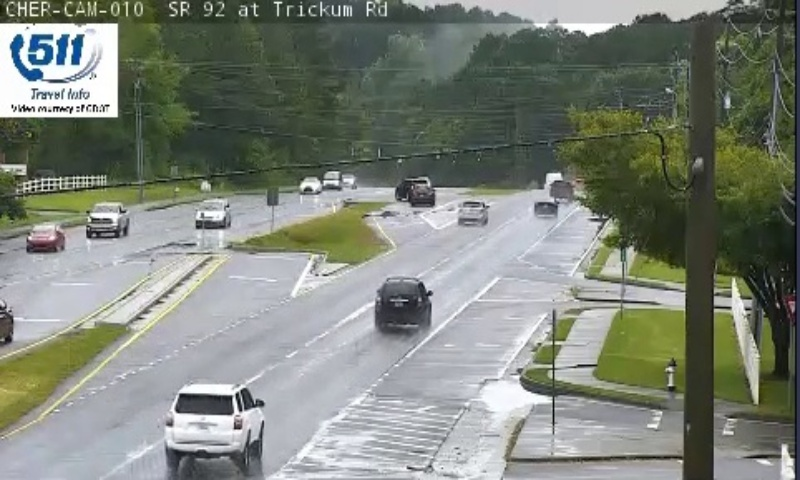car: (165, 384, 265, 449), (375, 276, 429, 324), (458, 198, 487, 221)
